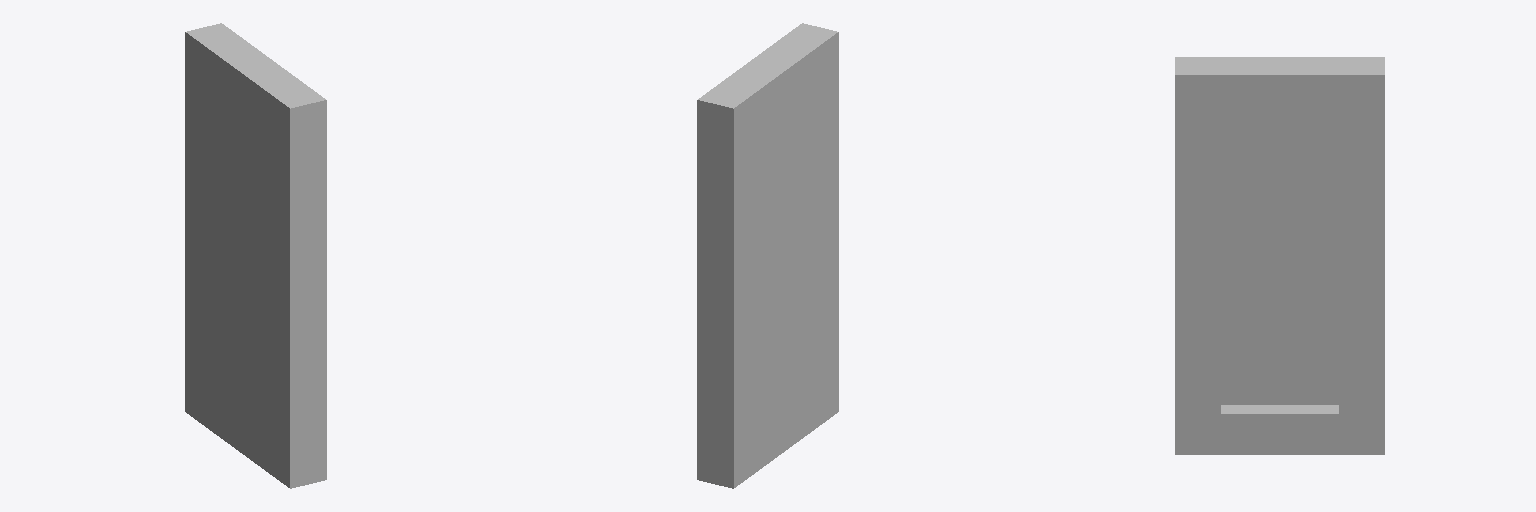
Rendered from detail_005.obj.
The picture shows the model from 3 angles: view 1: azimuth 30°, elevation 25°; view 2: azimuth 150°, elevation 25°; view 3: azimuth 270°, elevation 25°; orthographic projection.
Parts seen in each view (by area): view 1: detail_005; view 2: detail_005; view 3: detail_005.
Boxes of the visible parts, x1,y1,x2,y2 form: detail_005: [185, 23, 326, 488]; detail_005: [697, 23, 838, 488]; detail_005: [1175, 57, 1384, 454].
Size of the model in its own units: 0.05 by 0.5 by 0.25.